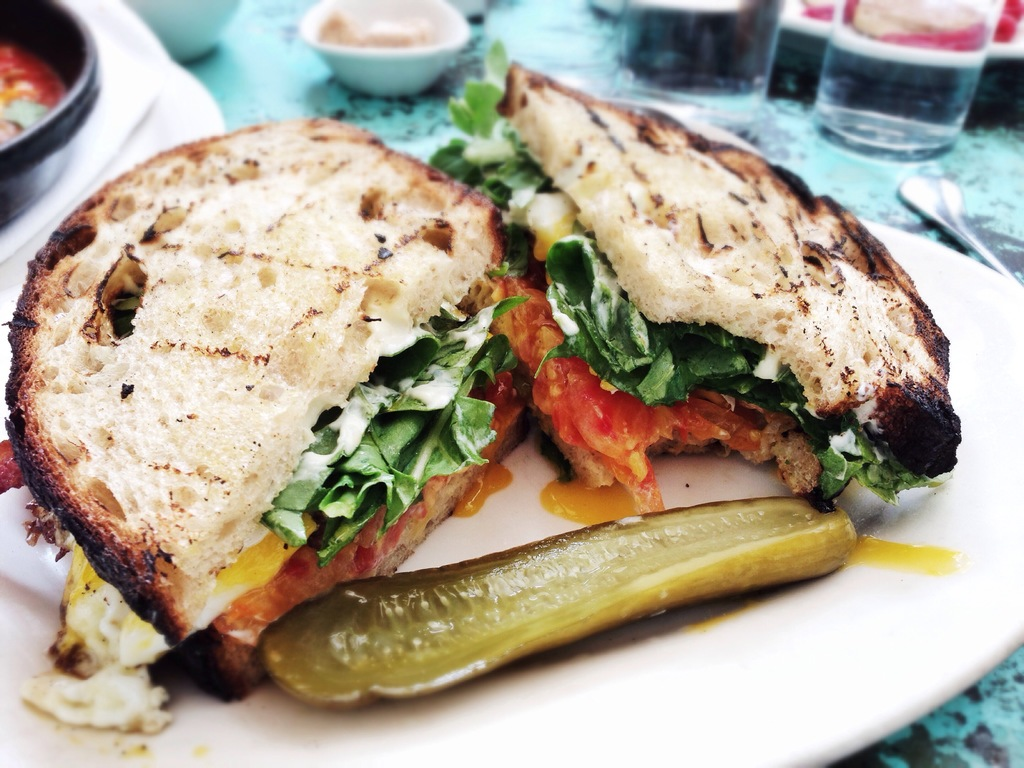sandwich: (0, 106, 525, 701), (422, 61, 968, 511)
